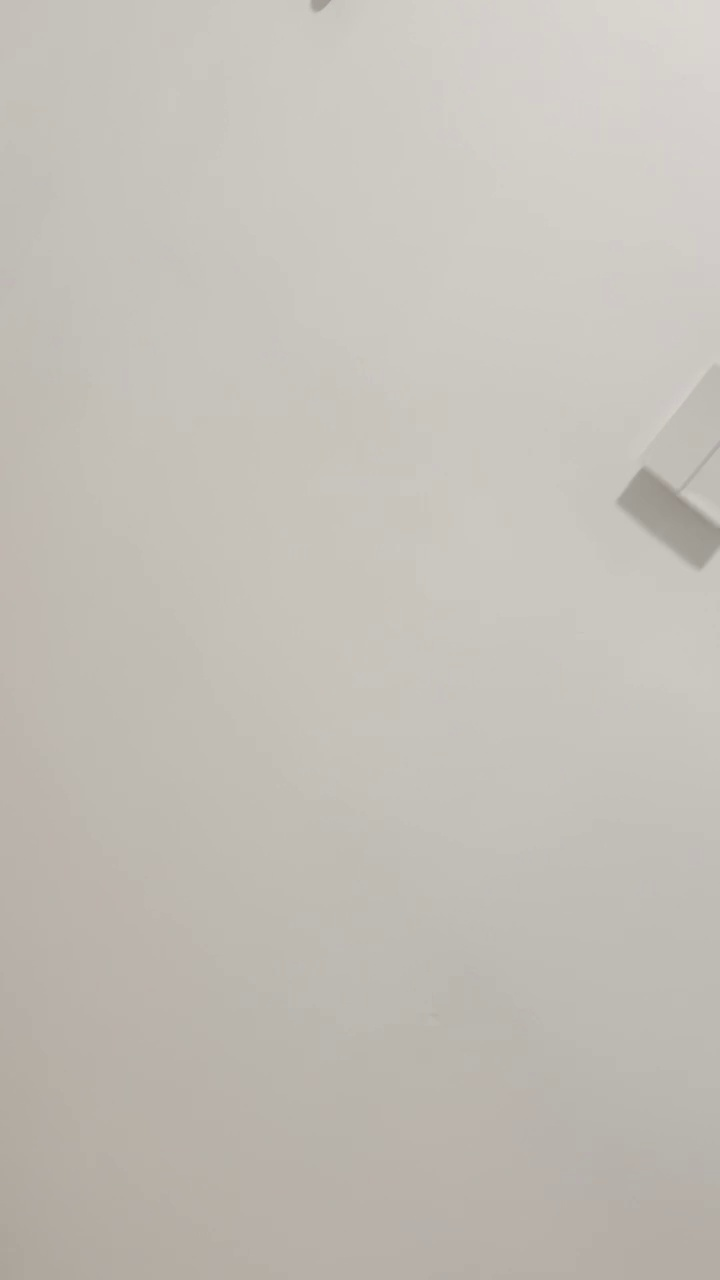button: (628, 355, 720, 540)
